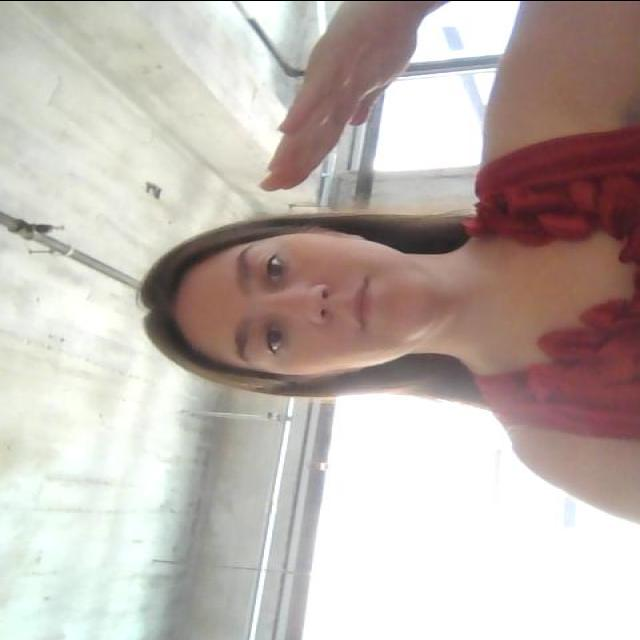Paper: (268, 30, 412, 189)
